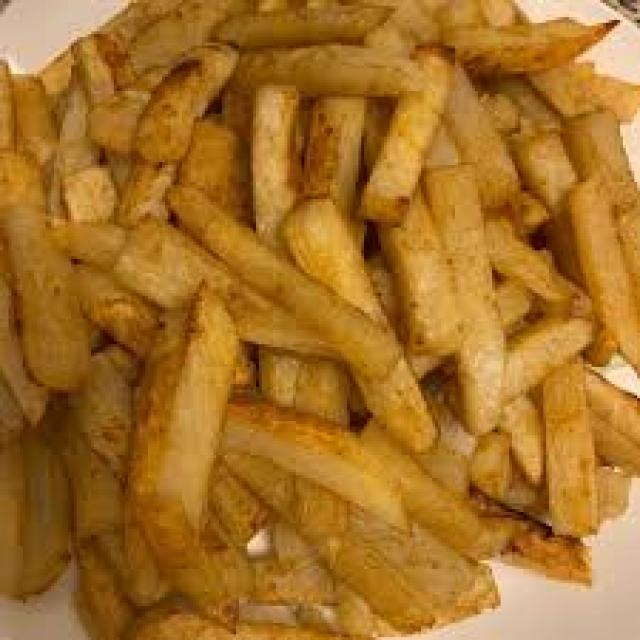감자튀김: (0, 0, 640, 640)
